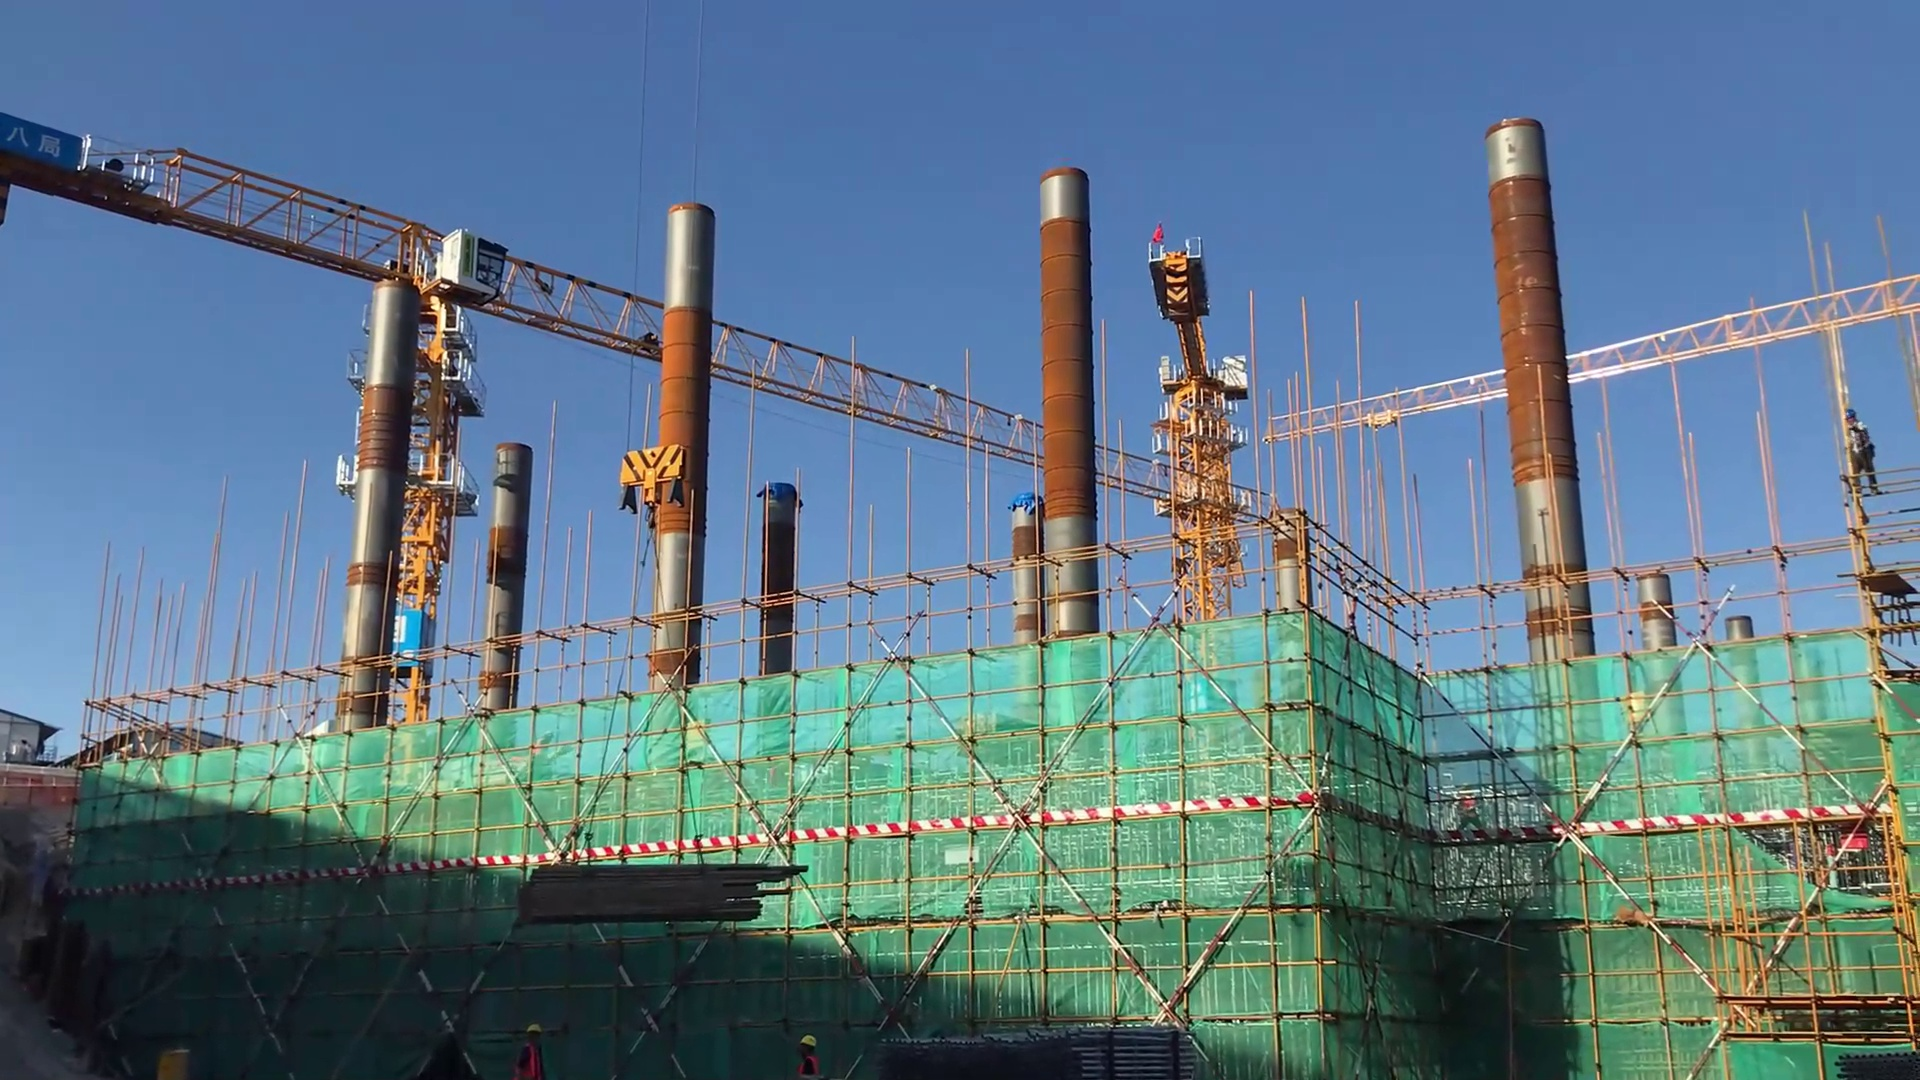ebox: (155, 1047, 193, 1080)
helmet: (1841, 398, 1863, 428), (520, 1019, 547, 1042), (796, 1035, 819, 1045)
hook: (615, 440, 688, 520)
person: (1834, 401, 1888, 504), (511, 1017, 553, 1080), (785, 1023, 822, 1080)
scaffold: (999, 1023, 1196, 1080), (882, 1031, 989, 1080)
vest: (1844, 430, 1877, 467), (515, 1044, 543, 1080), (796, 1054, 820, 1079)
wood: (514, 845, 802, 934)
